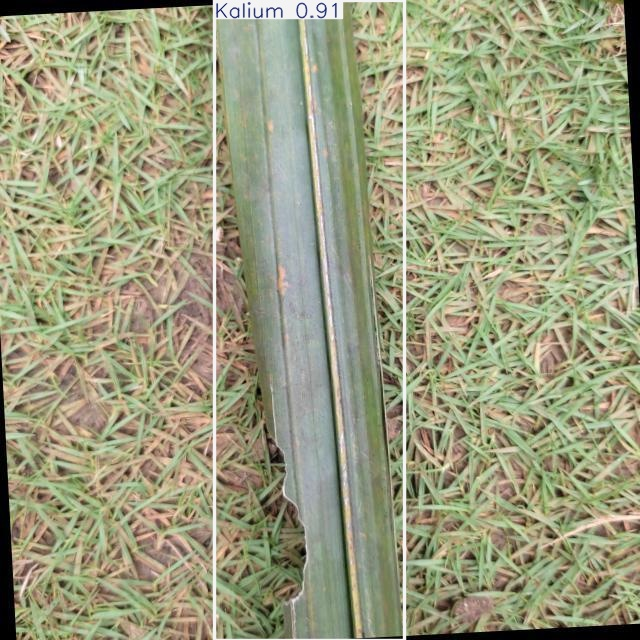Kalium: (214, 1, 404, 640)
